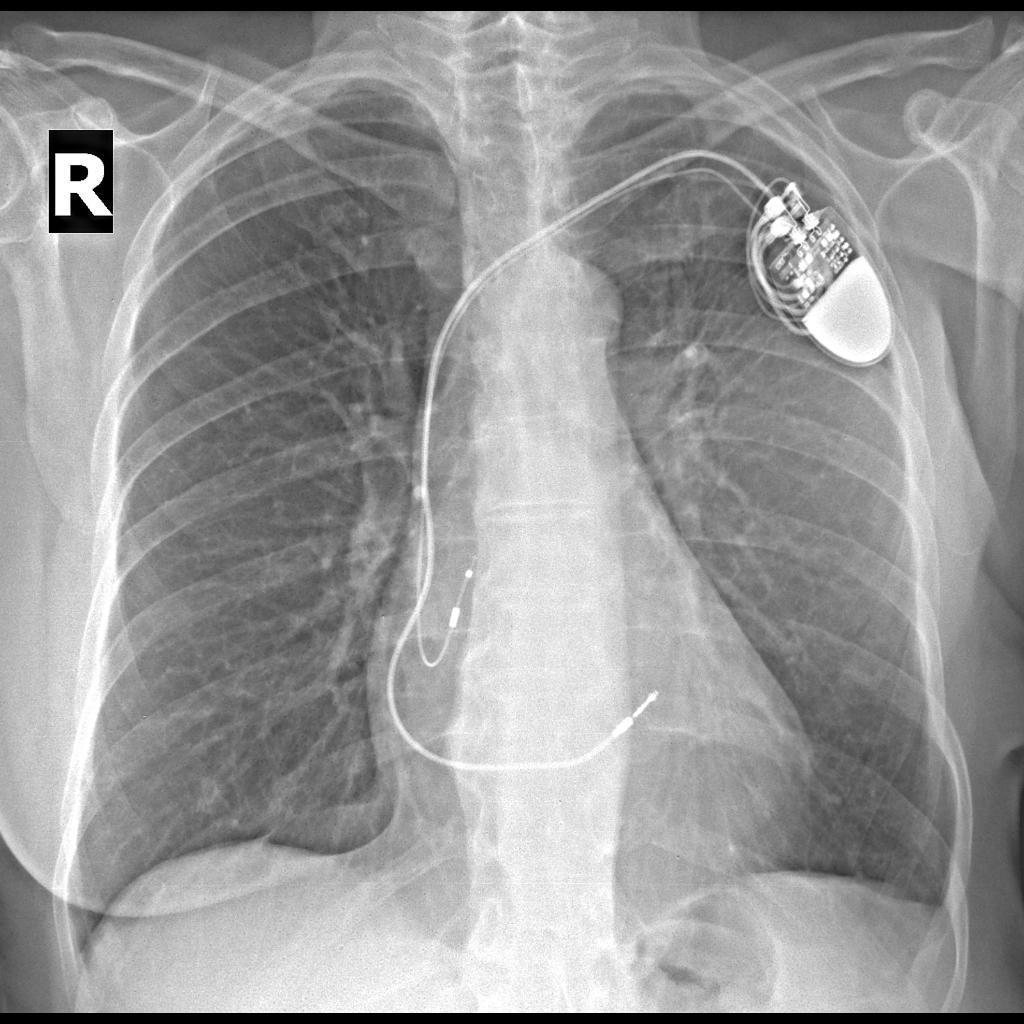Nodule: (192, 770, 234, 827)
